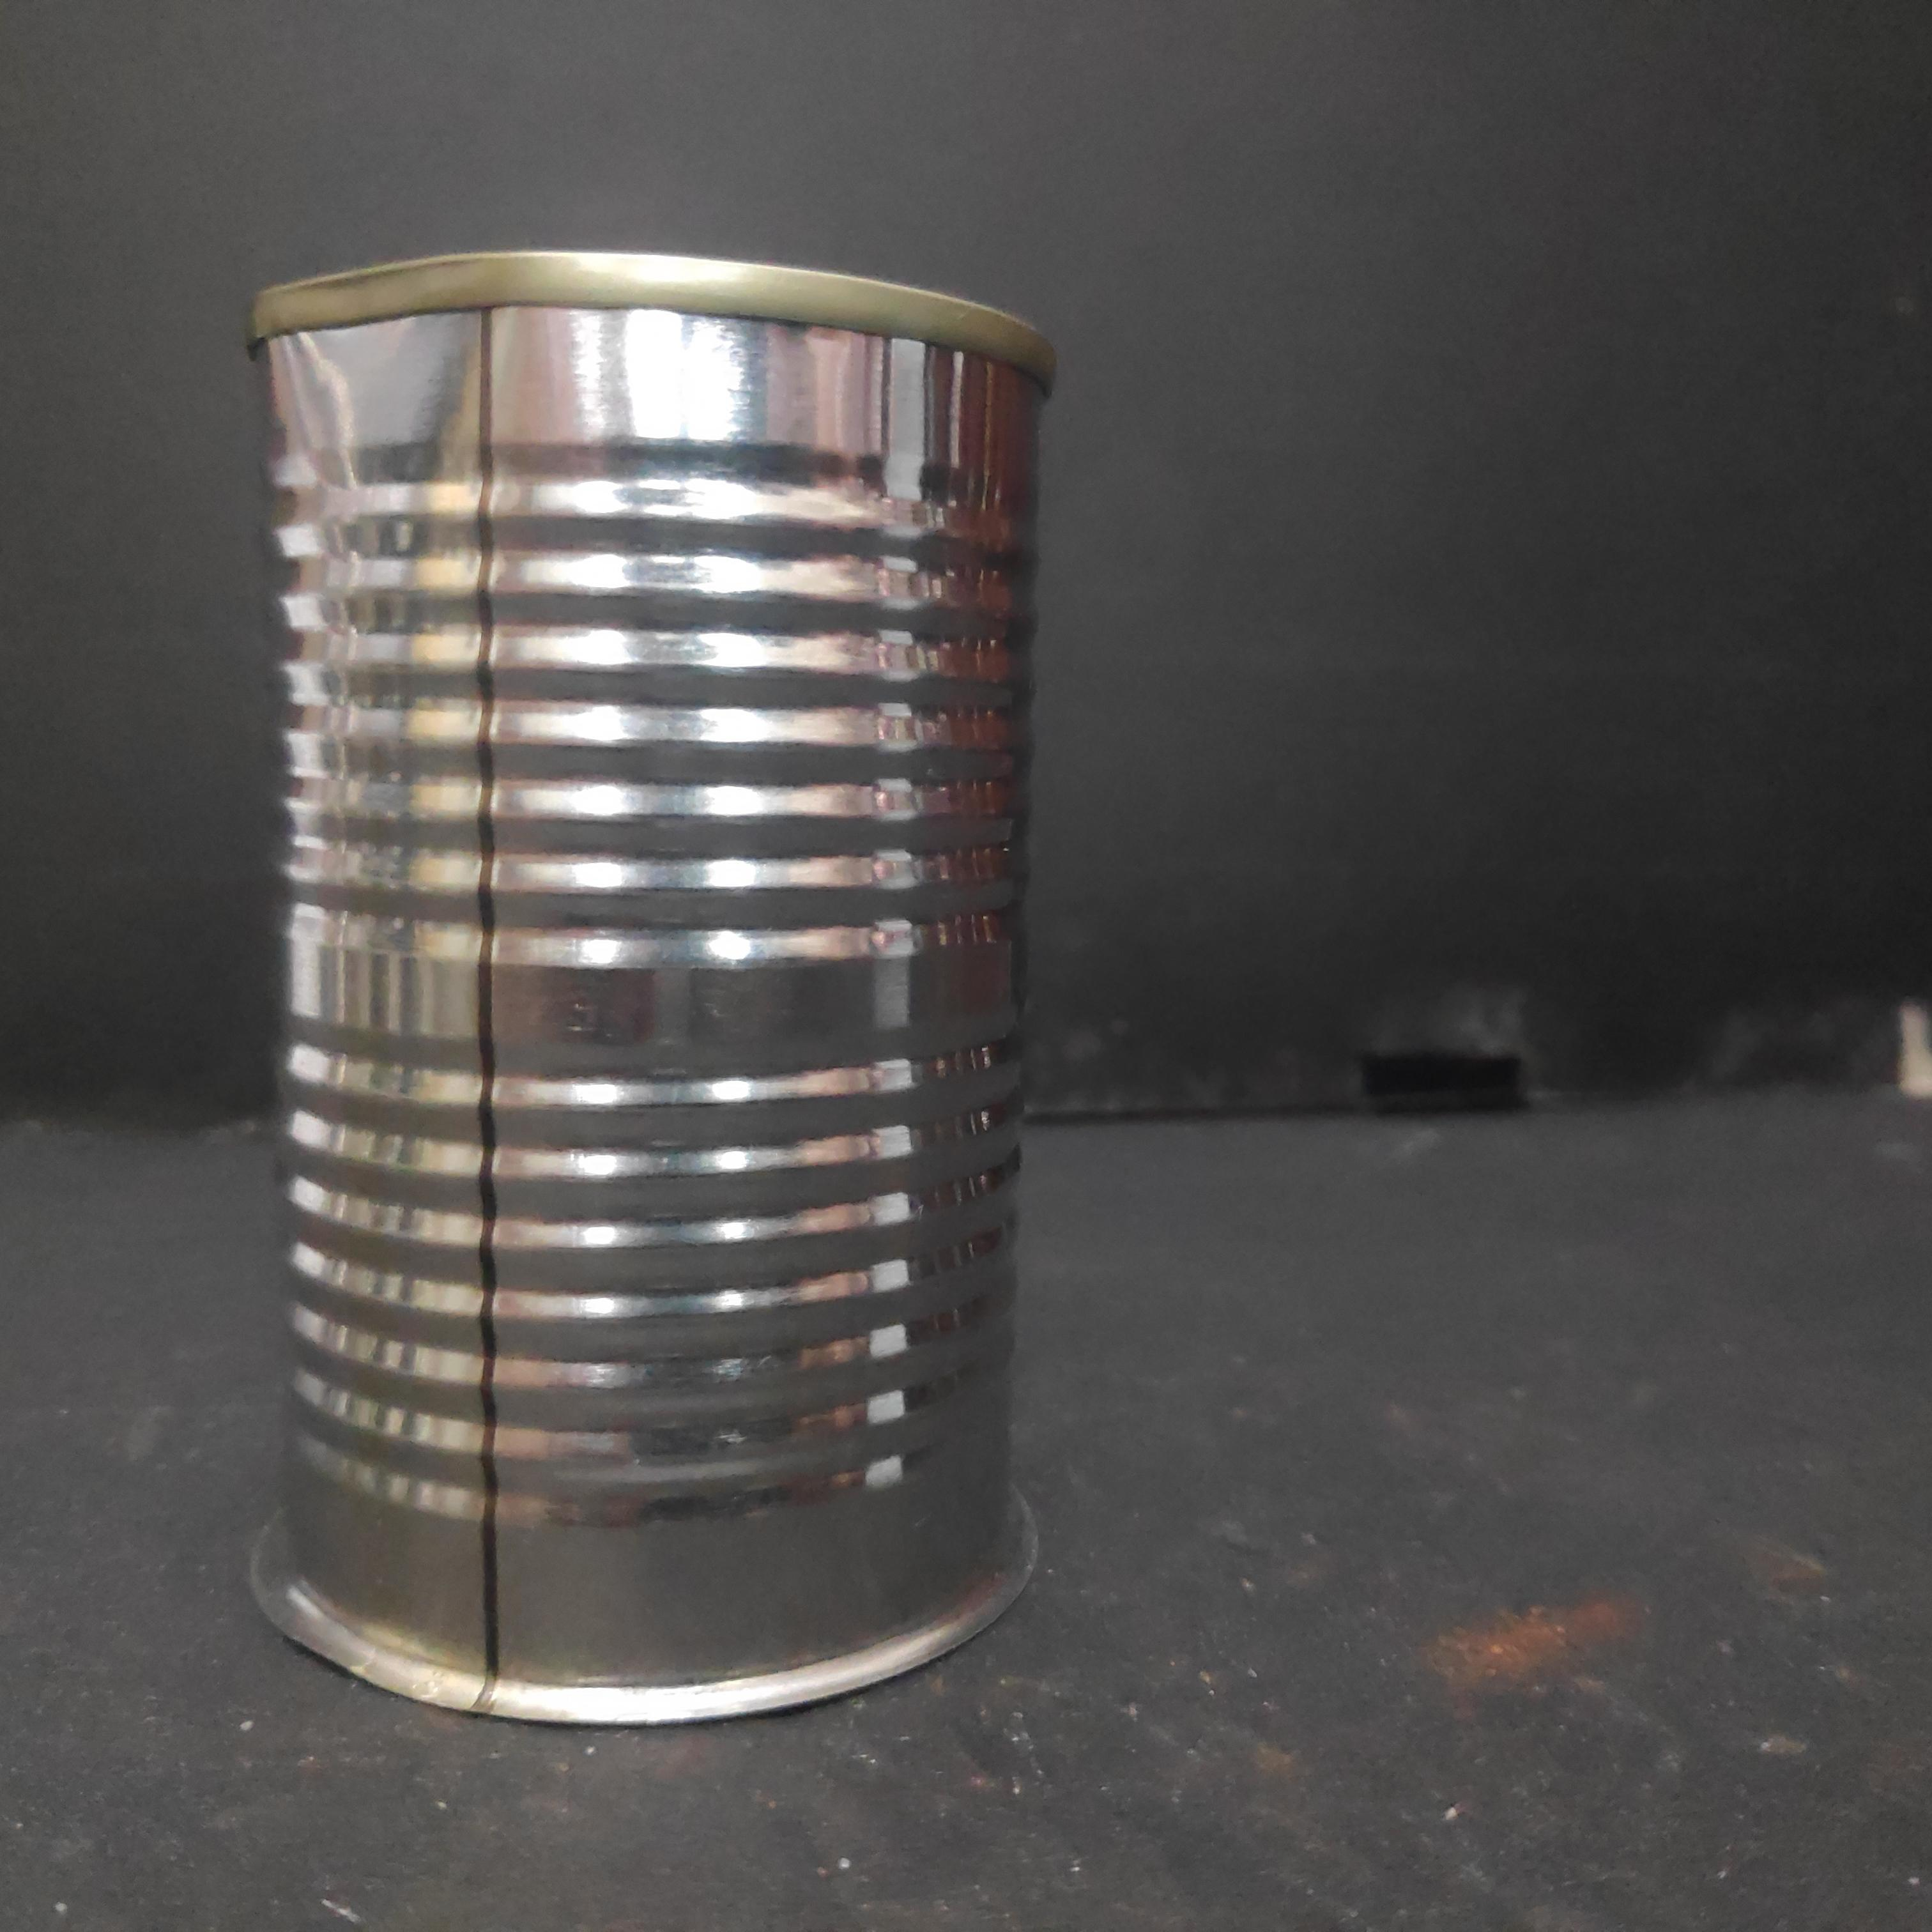Minor Defect: (232, 234, 1063, 1741)
